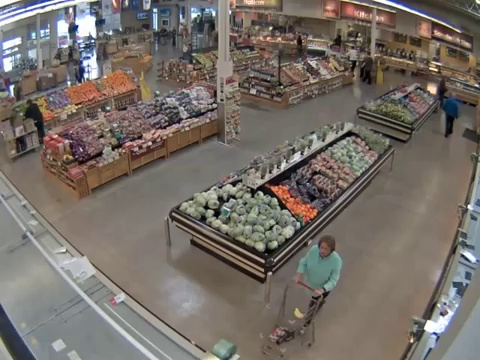face: (319, 240, 332, 256)
